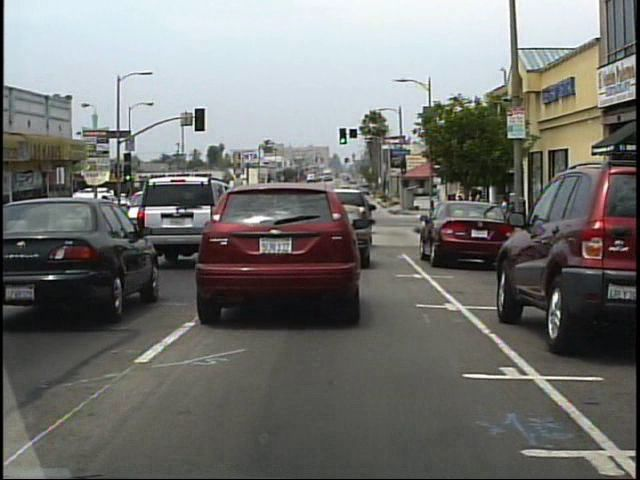person: (472, 191, 487, 229), (465, 193, 478, 236), (453, 193, 465, 235)
